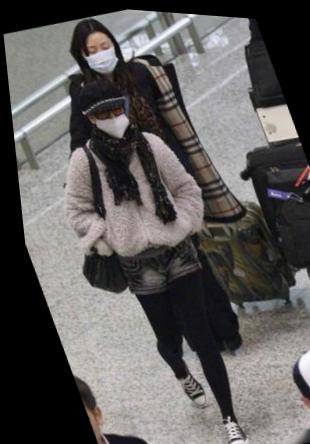OK: (81, 33, 124, 75)
WRONG: (89, 101, 133, 143), (304, 379, 310, 429)
